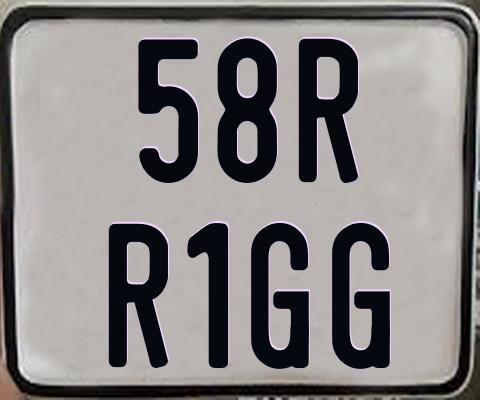1: (185, 220, 227, 369)
5: (137, 37, 197, 184)
8: (215, 36, 279, 183)
G: (331, 222, 395, 368), (250, 221, 310, 370)
R: (107, 224, 170, 374), (299, 36, 360, 185)
